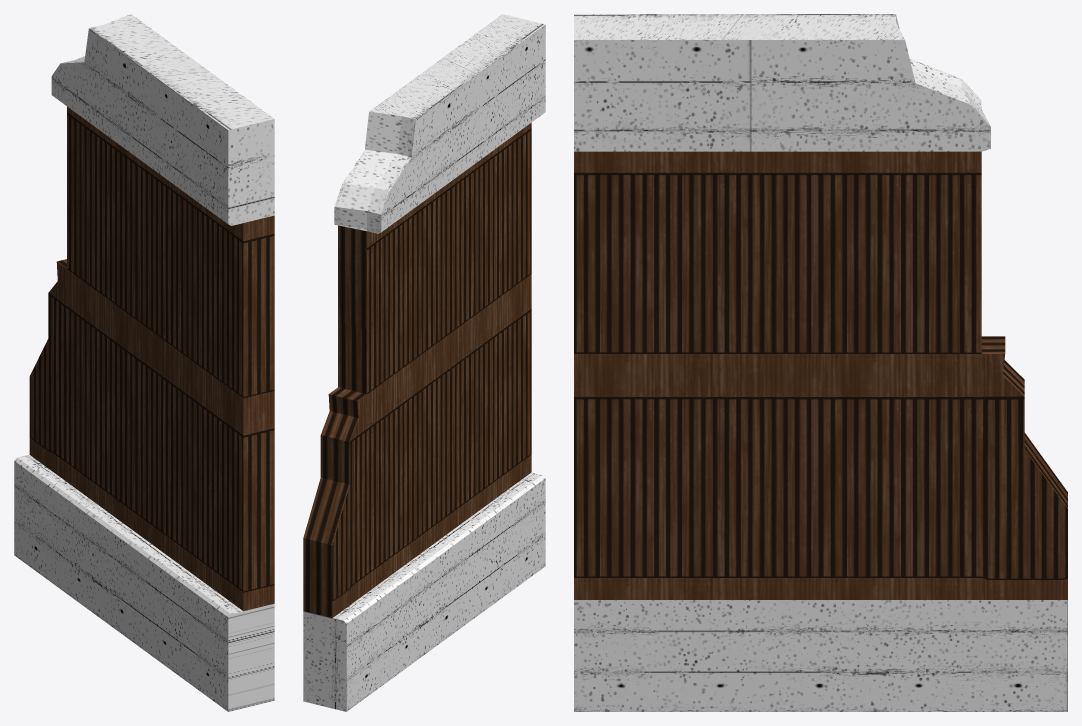
File: Wall_Cardinal_Front_02_transitionfbx 1.fbx
3 views of the same model, side by side, from view 1: azimuth 30°, elevation 25°; view 2: azimuth 150°, elevation 25°; view 3: azimuth 270°, elevation 25° (orthographic). The views are drawn at different scales.
Visible parts, largest first — view 1: Wall_Cardinal_Front_02_transitionfbx; view 2: Wall_Cardinal_Front_02_transitionfbx; view 3: Wall_Cardinal_Front_02_transitionfbx.
Part boxes in pixels (box(x1,y1,x2,y2)): Wall_Cardinal_Front_02_transitionfbx: box(14, 14, 274, 711); Wall_Cardinal_Front_02_transitionfbx: box(303, 14, 545, 711); Wall_Cardinal_Front_02_transitionfbx: box(574, 14, 1067, 711).
Size of the model in its own units: 0.25 by 3 by 2.
